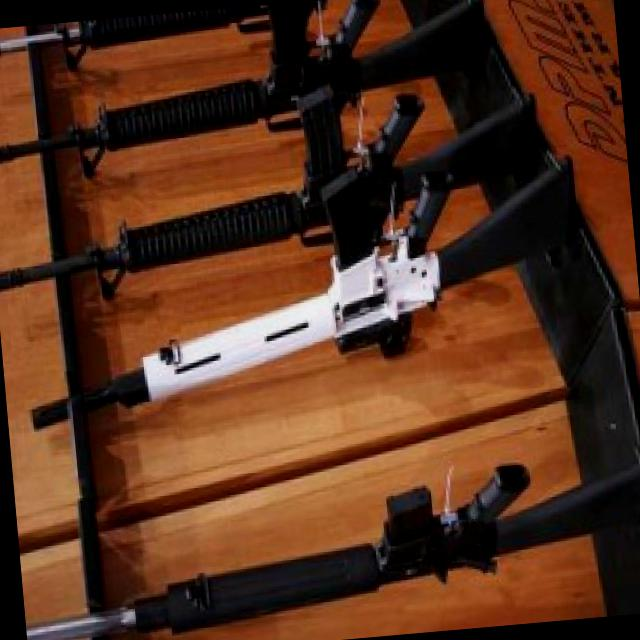long weapon: (9, 214, 632, 457), (13, 431, 639, 639)
